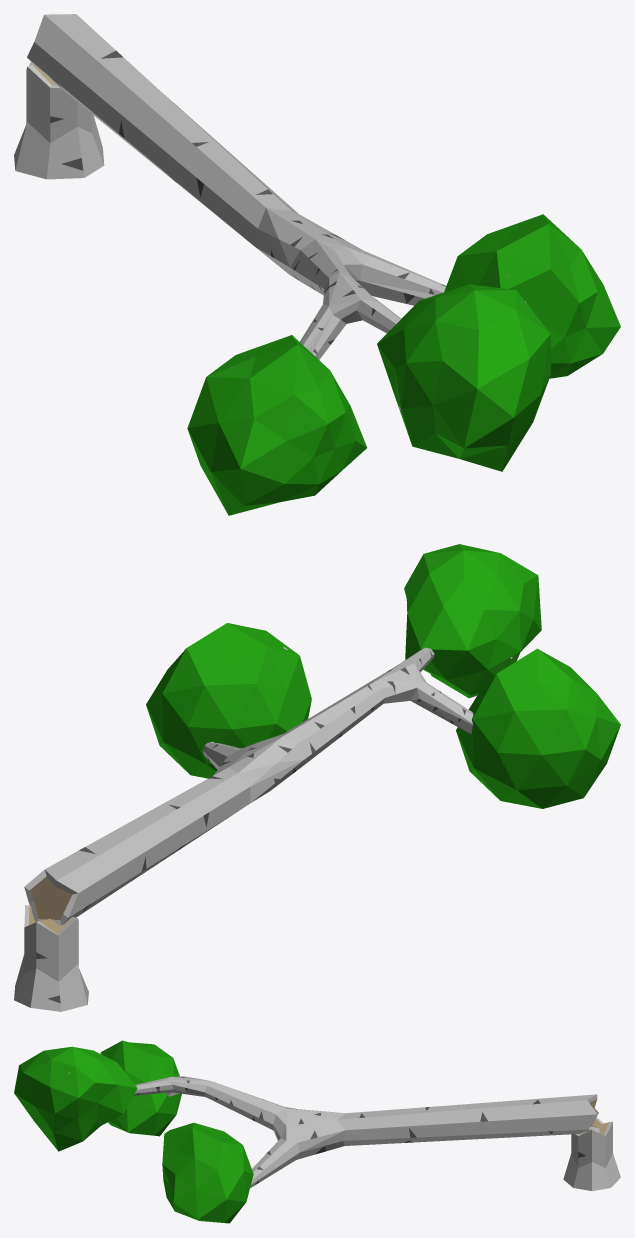
Rendered from Birch_1 Broken.fbx.
3 views of the same model, one above another, from view 1: azimuth 30°, elevation 25°; view 2: azimuth 150°, elevation 25°; view 3: azimuth 270°, elevation 25° (orthographic). The views are drawn at different scales.
Parts seen in each view (by area): view 1: BirchBroken_mesh; view 2: BirchBroken_mesh; view 3: BirchBroken_mesh.
Part boxes in pixels (<box>): BirchBroken_mesh: <box>14,14,620,515</box>; BirchBroken_mesh: <box>14,544,620,1011</box>; BirchBroken_mesh: <box>14,1040,620,1223</box>.
Bounding box in the file's own units: 361 × 162 × 707.
